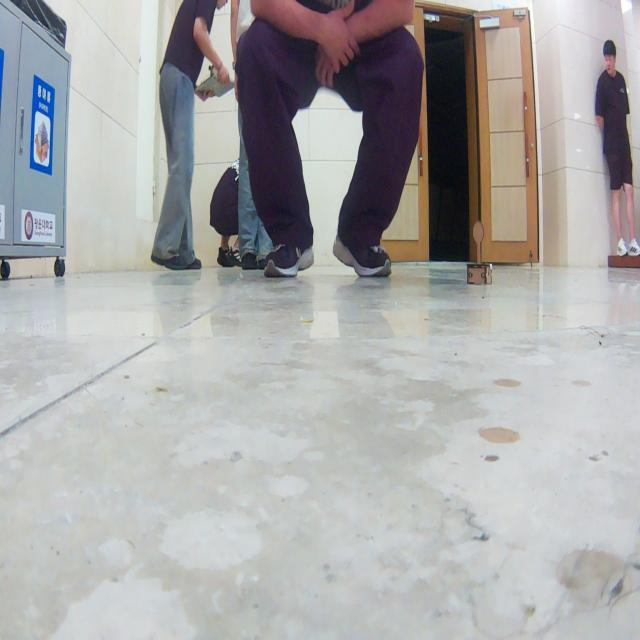target: (466, 221, 493, 285)
